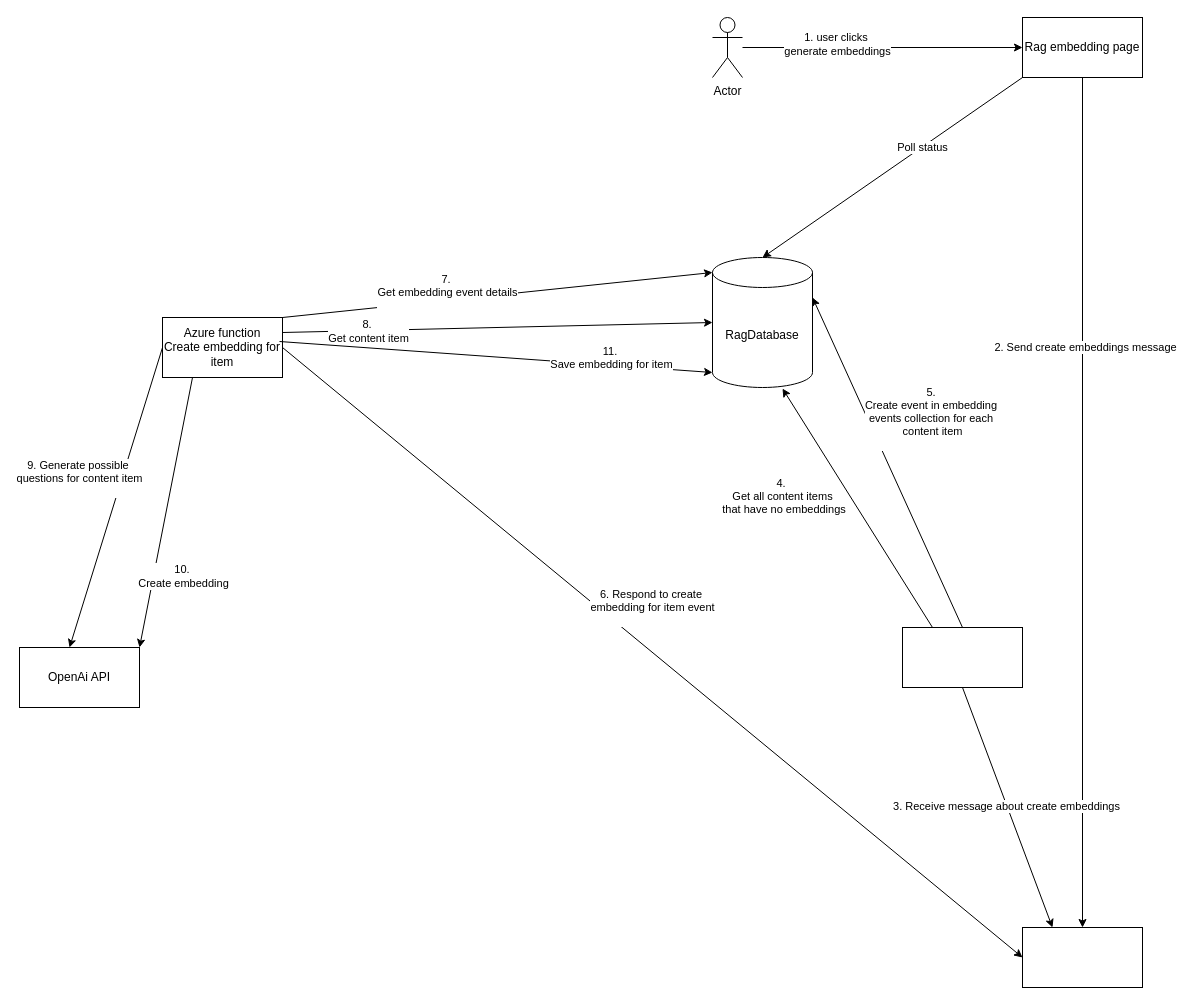
The diagram is 1194 pixels wide and 1005 high, and some of its shapes have lost their labels. The centre of each missing label's shape, as x and y in pixels:
"Azure function Create project embeddings" goes at point 962,657.
"RabbitMq" goes at point 1082,957.
